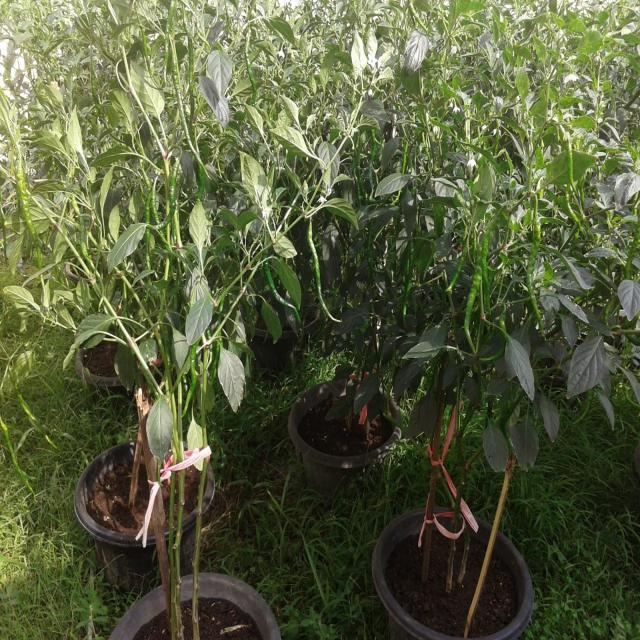sehat: (145, 389, 178, 478), (502, 331, 544, 399), (186, 290, 218, 356), (206, 47, 238, 97)
